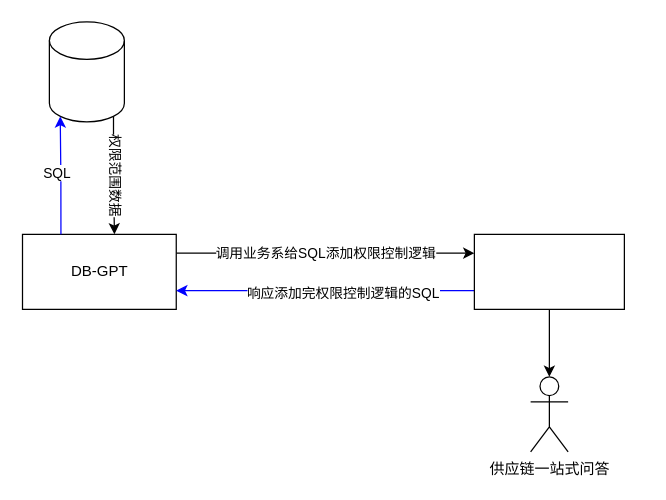
This 666x500 diagram has some shape labels left out. Each missing label, with the centre of its shape:
"业务数据库" goes at point (86, 71).
"业务系统" goes at point (548, 271).
